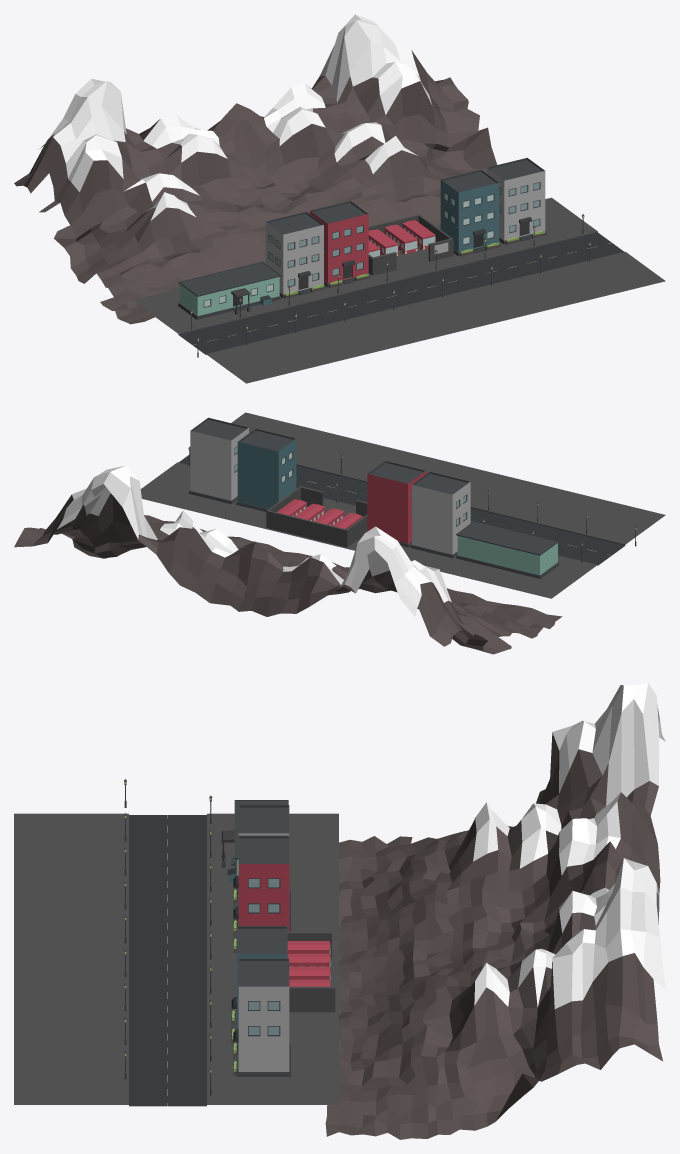
File: CenaContratacao.FBX
The picture shows the model from 3 angles, top to bottom: view 1: azimuth 30°, elevation 25°; view 2: azimuth 150°, elevation 25°; view 3: azimuth 270°, elevation 25°; orthographic projection. The views are drawn at different scales.
Visible parts, largest first — view 1: Montanha, Rua, Casa04, Casa02, Casa01, Casa05, Casa03, Muro, Postes, Onibus002, Onibus003; view 2: Montanha, Rua, Casa04, Casa02, Casa01, Casa05, Casa03, Muro; view 3: Montanha, Rua, Casa05, Casa03, Casa04, Muro, Casa02, Postes, Casa01.
Boxes of the visible parts, x1,y1,x2,y2 form: Montanha: (14,14,497,324); Rua: (132,197,665,383); Casa04: (440,169,500,256); Casa02: (265,211,325,298); Casa01: (178,261,281,319); Casa05: (486,157,546,244); Casa03: (310,201,370,287); Muro: (368,214,453,275); Postes: (190,214,590,357); Onibus002: (384,224,417,254); Onibus003: (402,220,435,249); Montanha: (14,465,562,654); Rua: (140,412,665,598); Casa04: (236,428,296,511); Casa02: (410,472,470,558); Casa01: (456,520,559,578); Casa05: (188,417,248,504); Casa03: (367,461,425,547); Muro: (266,486,367,547); Montanha: (325,683,665,1139); Rua: (14,813,338,1106); Casa05: (233,958,290,1076); Casa03: (233,835,290,952); Casa04: (231,926,287,1044); Muro: (287,932,335,1012); Casa02: (233,805,290,922); Postes: (124,779,212,1095); Casa01: (221,800,288,891).
Bounding box in the file's own units: 2670 × 879 × 2420.
